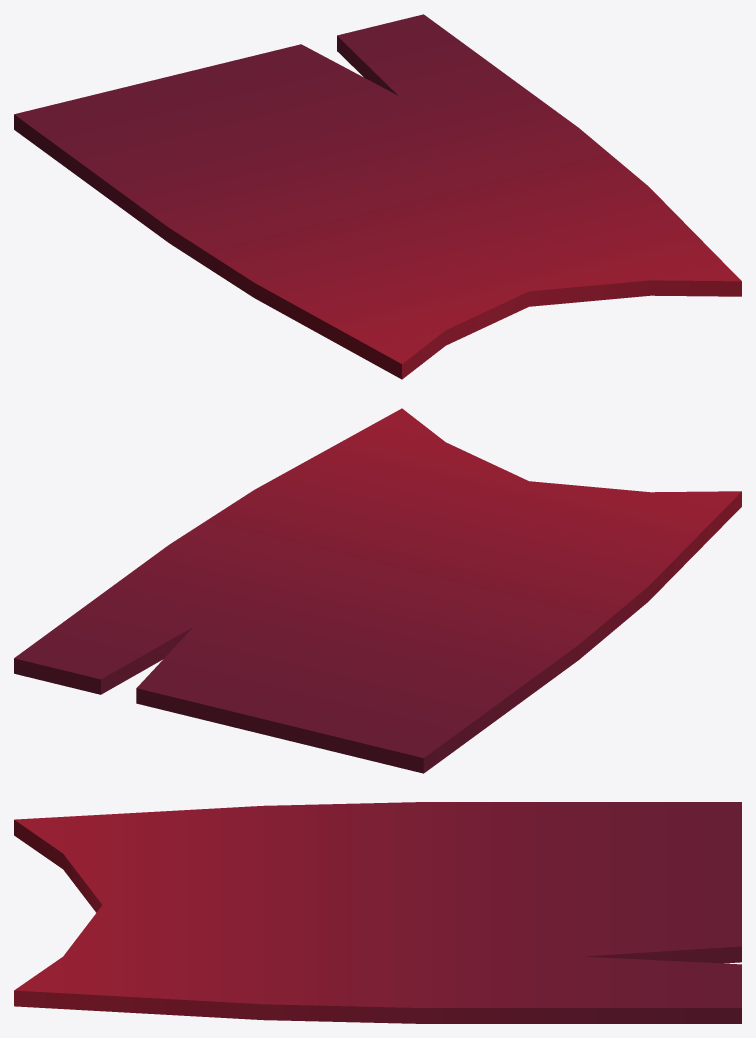
The model's file is cloak_01.fbx.
3 views of the same model, one above another, from view 1: azimuth 30°, elevation 25°; view 2: azimuth 150°, elevation 25°; view 3: azimuth 270°, elevation 25° (orthographic). The views are drawn at different scales.
Parts seen in each view (by area): view 1: cloak_01; view 2: cloak_01; view 3: cloak_01.
Boxes of the visible parts, x1,y1,x2,y2 form: cloak_01: [14, 14, 741, 379]; cloak_01: [14, 408, 741, 773]; cloak_01: [14, 802, 741, 1023].
Bounding box in the file's own units: 0.4756 × 0.0171 × 0.7099.
Materials: 1 (1 with a texture image).
